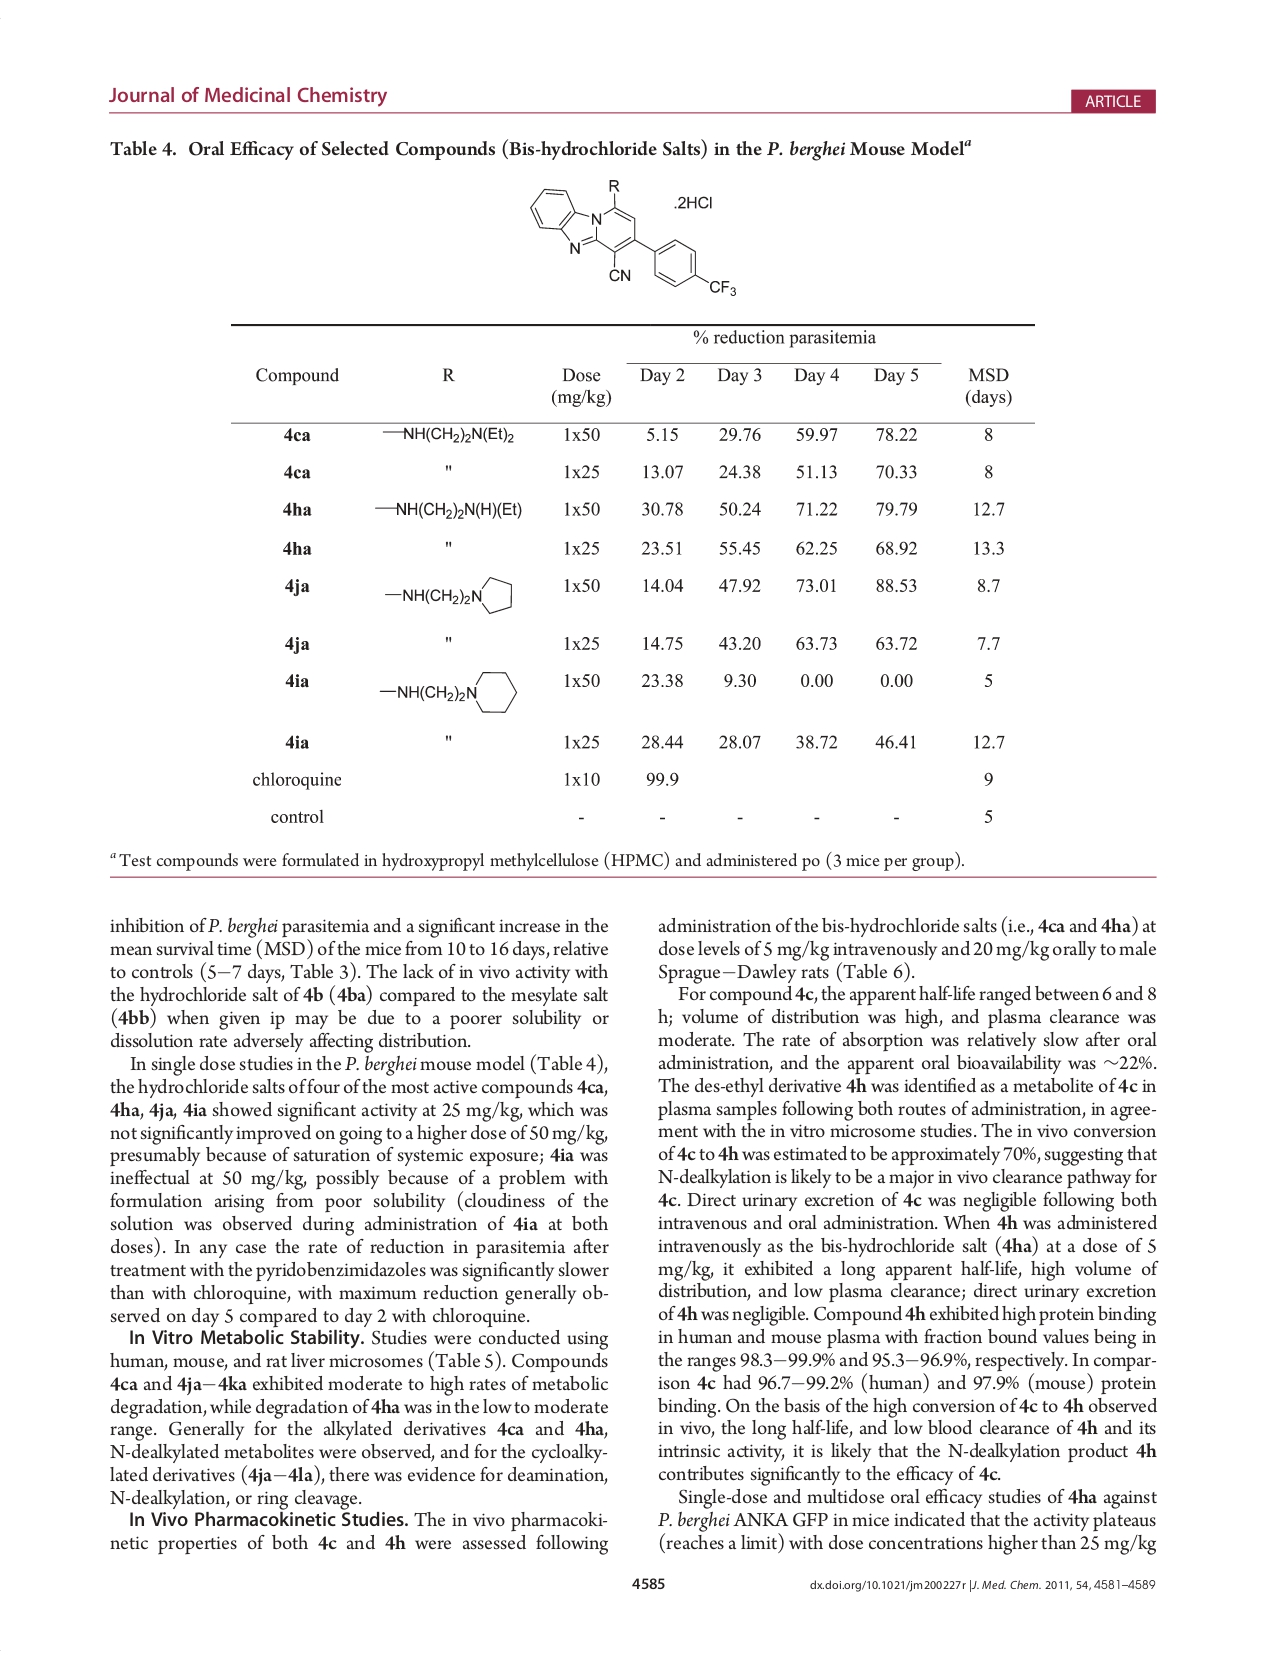exist_molecular: (527, 177, 738, 299), (376, 666, 521, 718), (382, 572, 520, 618)
